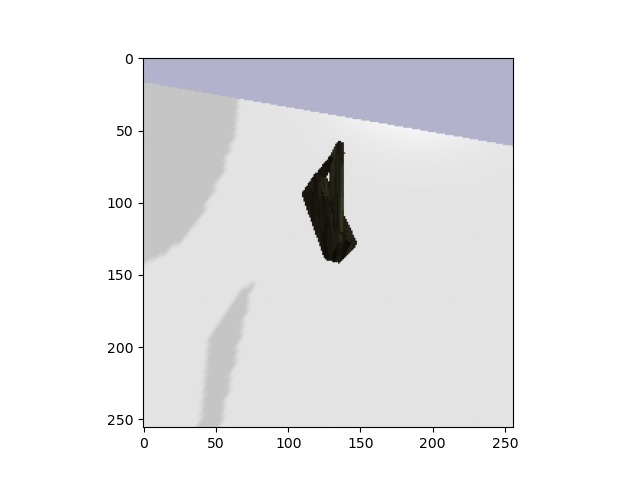v249b387_109: (296, 140, 363, 268)
